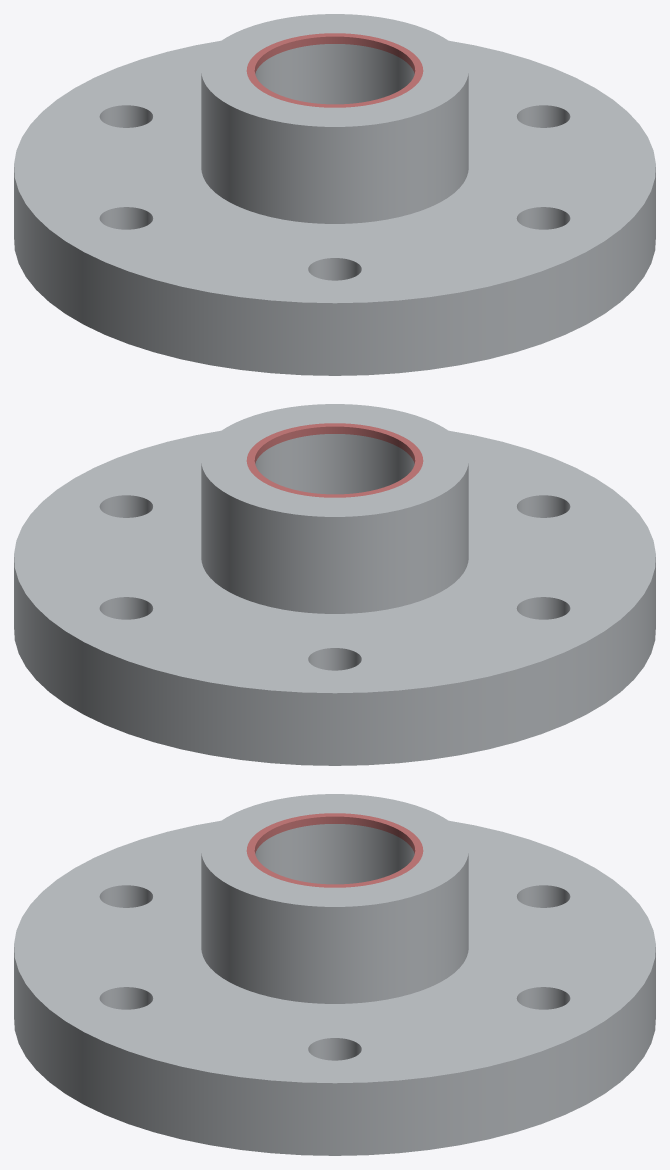
The model's file is step_07.glb.
The picture shows the model from 3 angles, top to bottom: view 1: azimuth 30°, elevation 25°; view 2: azimuth 150°, elevation 25°; view 3: azimuth 270°, elevation 25°; orthographic projection.
Visible parts, largest first — view 1: part__PCD flange, removed__PCD flange; view 2: part__PCD flange, removed__PCD flange; view 3: part__PCD flange, removed__PCD flange.
Boxes of the visible parts, bbox=[...] form: part__PCD flange: bbox=[14, 14, 655, 375]; removed__PCD flange: bbox=[246, 33, 423, 107]; part__PCD flange: bbox=[14, 404, 655, 765]; removed__PCD flange: bbox=[246, 423, 423, 497]; part__PCD flange: bbox=[14, 794, 655, 1155]; removed__PCD flange: bbox=[246, 813, 423, 887].
Bounding box in the file's own units: 120 × 35 × 120.
